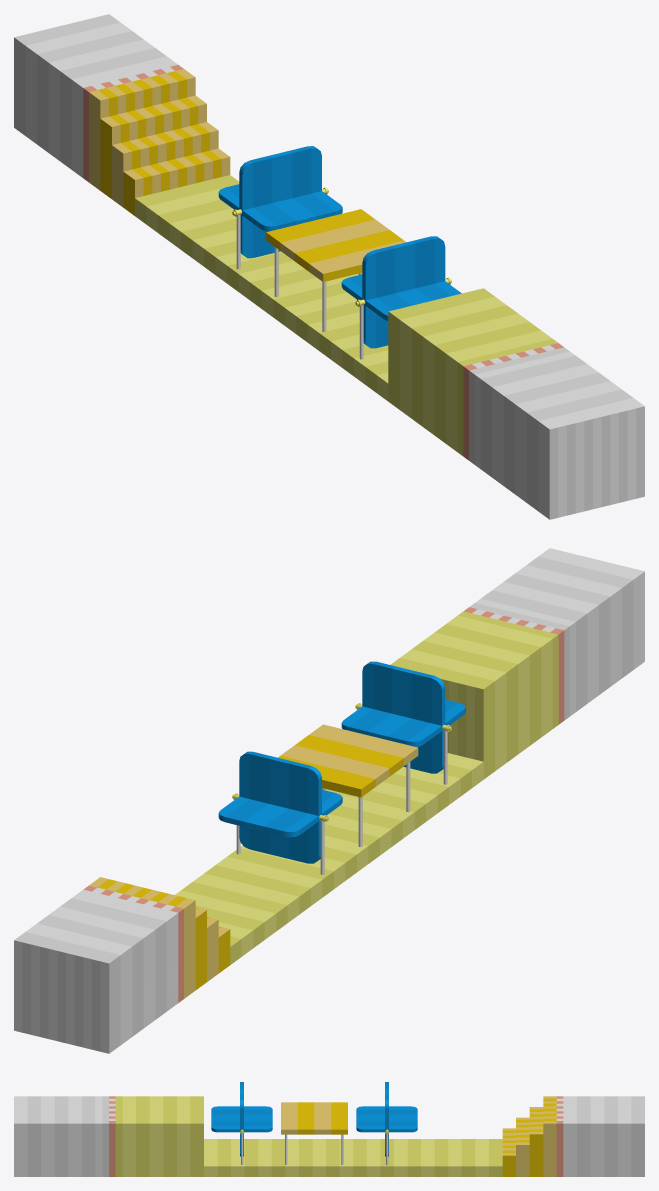
The model's file is Visuals.fbx.
3 renders of one model, top to bottom at view 1: azimuth 30°, elevation 25°; view 2: azimuth 150°, elevation 25°; view 3: azimuth 270°, elevation 25°, orthographic. The views are drawn at different scales.
Parts seen in each view (by area): view 1: pCube4, polySurface22, polySurface15, pCube5; view 2: pCube4, polySurface22, polySurface15, pCube5; view 3: pCube4, pCube5, polySurface15, polySurface22.
Part boxes in pixels (left/top/right/bottom): pCube4: left=14, top=14, right=644, bottom=519; polySurface22: left=218, top=146, right=342, bottom=258; polySurface15: left=341, top=236, right=461, bottom=348; pCube5: left=266, top=209, right=406, bottom=281; pCube4: left=14, top=548, right=644, bottom=1053; polySurface22: left=218, top=751, right=342, bottom=863; polySurface15: left=341, top=661, right=465, bottom=773; pCube5: left=278, top=724, right=418, bottom=797; pCube4: left=14, top=1096, right=644, bottom=1176; pCube5: left=281, top=1102, right=347, bottom=1134; polySurface15: left=211, top=1082, right=272, bottom=1156; polySurface22: left=356, top=1082, right=417, bottom=1156.
Size of the model in its own units: 2.53 by 3.1 by 24.66.
